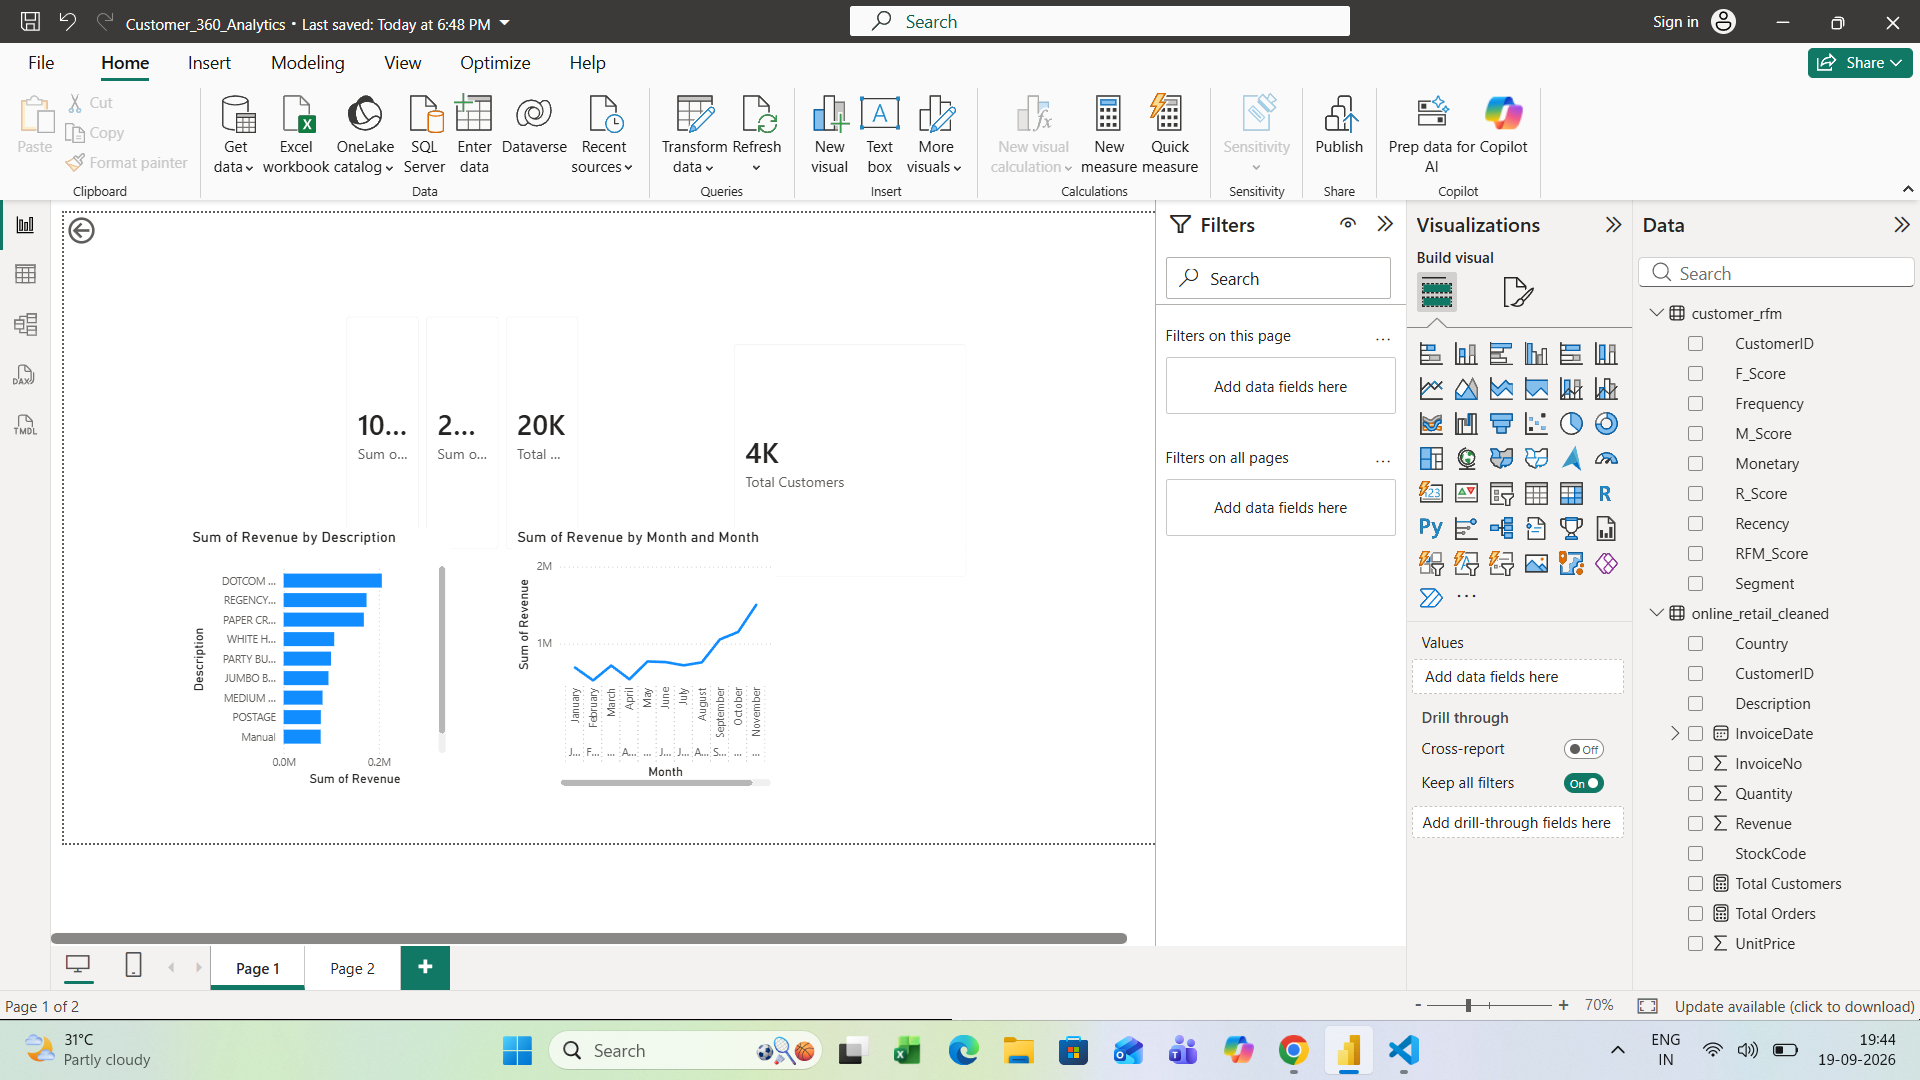

The page's visual inventory and layout, read from the dashboard file:
{"tool":"powerbi","page":{"name":"Page 1","canvas":[1280,720],"ordinal":0},"visuals":[{"type":"cardVisual","fields":{"Data":["Sum(online_retail_cleaned.Revenue)","Sum(online_retail_cleaned.InvoiceNo)","online_retail_cleaned.Total Orders"]},"box":[306.2,100.8,300,300],"z":0},{"type":"actionButton","box":[0,0,100,40],"z":1000},{"type":"cardVisual","fields":{"Data":["online_retail_cleaned.Total Customers"]},"box":[748.6,132.9,300,300],"z":2000},{"type":"lineChart","fields":{"Category":["online_retail_cleaned.InvoiceDate.Variation.Date Hierarchy.Year","online_retail_cleaned.InvoiceDate.Variation.Date Hierarchy.Quarter","online_retail_cleaned.InvoiceDate.Variation.Date Hierarchy.Month","online_retail_cleaned.InvoiceDate.Variation.Date Hierarchy.Day","online_retail_cleaned.InvoiceDate.Variation.Date Hierarchy.Year","online_retail_cleaned.InvoiceDate.Variation.Date Hierarchy.Quarter","online_retail_cleaned.InvoiceDate.Variation.Date Hierarchy.Month","online_retail_cleaned.InvoiceDate.Variation.Date Hierarchy.Day"],"Y":["Sum(online_retail_cleaned.Revenue)"]},"box":[512.9,360,300,300],"z":3000},{"type":"clusteredBarChart","fields":{"Category":["online_retail_cleaned.Description"],"Y":["Sum(online_retail_cleaned.Revenue)"]},"box":[141.4,360,300,300],"z":4000}]}

Visuals, with their boxes on the page's 1280x720 design canvas (x1, y1, x2, y2). These are canvas units, not pixel positions in the 1920x1080 screenshot, which may show the page scaled, cropped or inside an application window:
cardVisual - Sum(online_retail_cleaned.Revenue) x Sum(online_retail_cleaned.InvoiceNo): <box>306,101,606,401</box>
actionButton: <box>0,0,100,40</box>
cardVisual - online_retail_cleaned.Total Customers: <box>749,133,1049,433</box>
lineChart - online_retail_cleaned.InvoiceDate.Variation.Date Hierarchy.Year x online_retail_cleaned.InvoiceDate.Variation.Date Hierarchy.Quarter: <box>513,360,813,660</box>
clusteredBarChart - online_retail_cleaned.Description x Sum(online_retail_cleaned.Revenue): <box>141,360,441,660</box>
